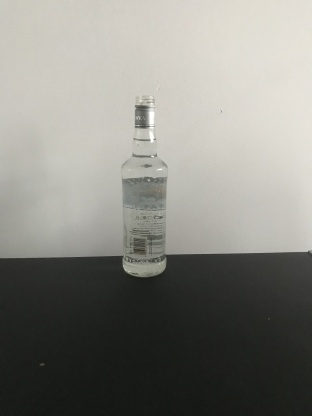nakretka: (132, 93, 157, 130)
